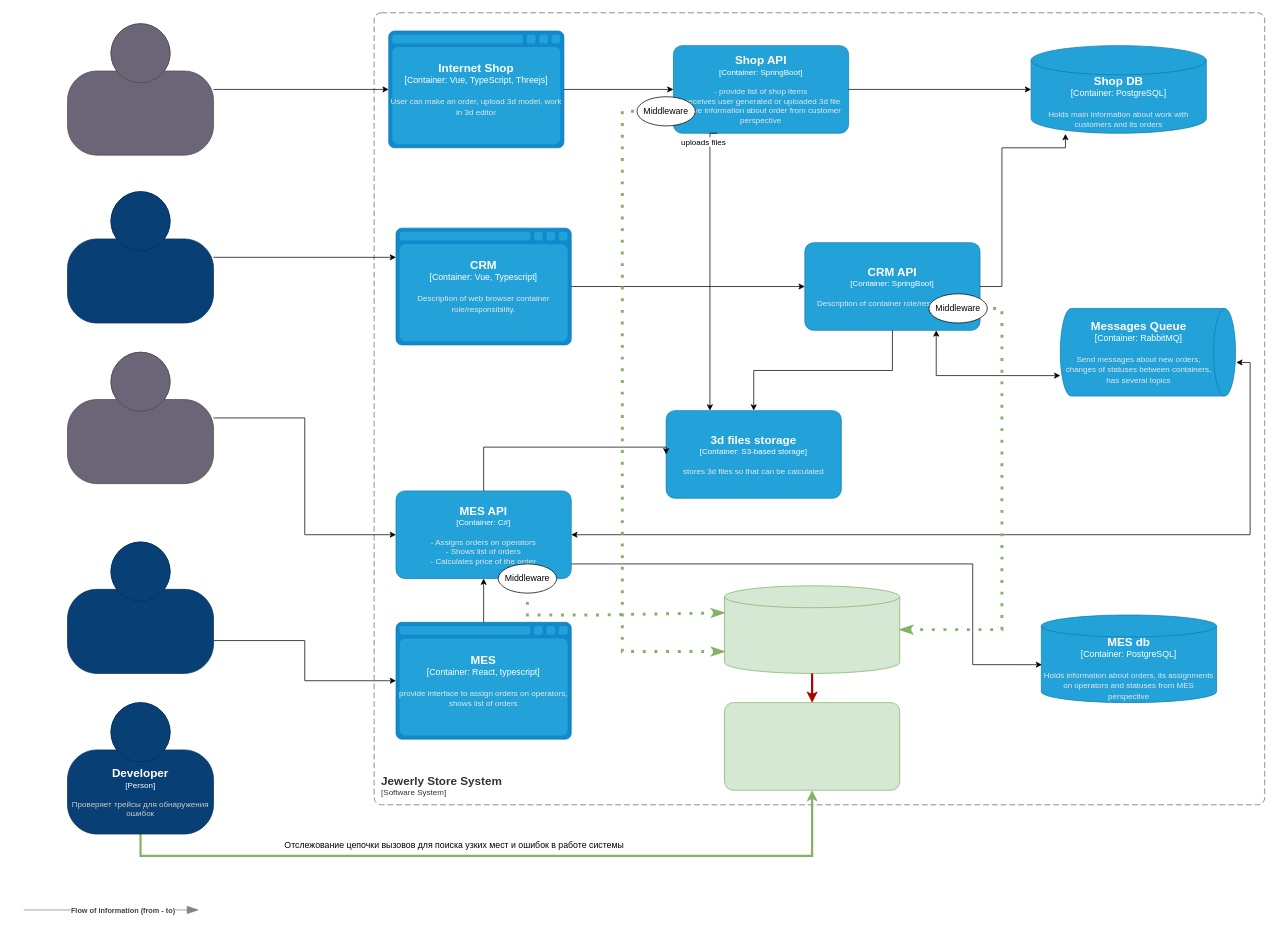
Some shapes in this 1278 by 934 pixel diagram are drawn without their labels. The shapes that lost their labels are listed below. From the top down, each one's centre as x and y in pixels, then its label:
At (x=140, y=89): "Customer [Person] Description of external person.".
At (x=140, y=257): "Seller [Person] Operates with order, confirms manufacturing for the user".
At (x=140, y=417): "API user [Person] Description of external person.".
At (x=140, y=607): "Operator [Person] Takes order in work, manufactures jewerly".
At (x=812, y=629): "Jaeger db [Container: Jaeger] Holds information about API calls traces".
At (x=812, y=746): "Jaeger UI [Container: JS] UI for Jaeger".
